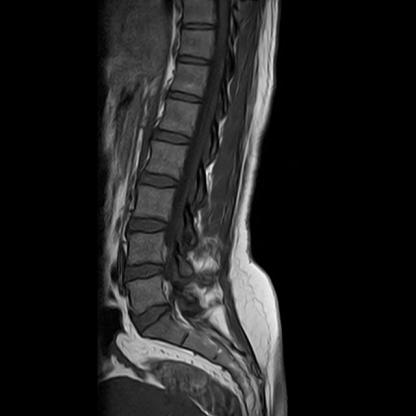Disc Bulgerotation: (133, 304, 175, 330), (124, 261, 164, 283)
